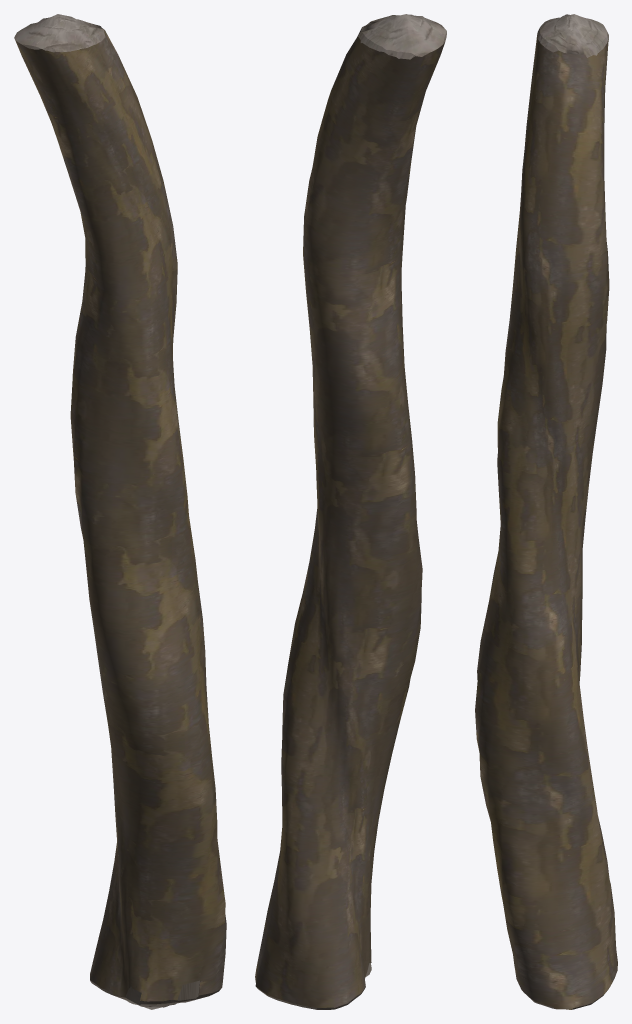
3 renders of one model, left to right at view 1: azimuth 30°, elevation 25°; view 2: azimuth 150°, elevation 25°; view 3: azimuth 270°, elevation 25°, orthographic. The views are drawn at different scales.
Visible parts, largest first — view 1: SM_Yew_02_full_LOD0; view 2: SM_Yew_02_full_LOD0; view 3: SM_Yew_02_full_LOD0.
Boxes of the visible parts, box(x1,y1,x2,y2) form: SM_Yew_02_full_LOD0: box(14, 14, 226, 1009); SM_Yew_02_full_LOD0: box(255, 14, 446, 1009); SM_Yew_02_full_LOD0: box(475, 14, 617, 1009).
Bounding box in the file's own units: 1.67 × 8.59 × 1.18.
1 material, 1 textured.
